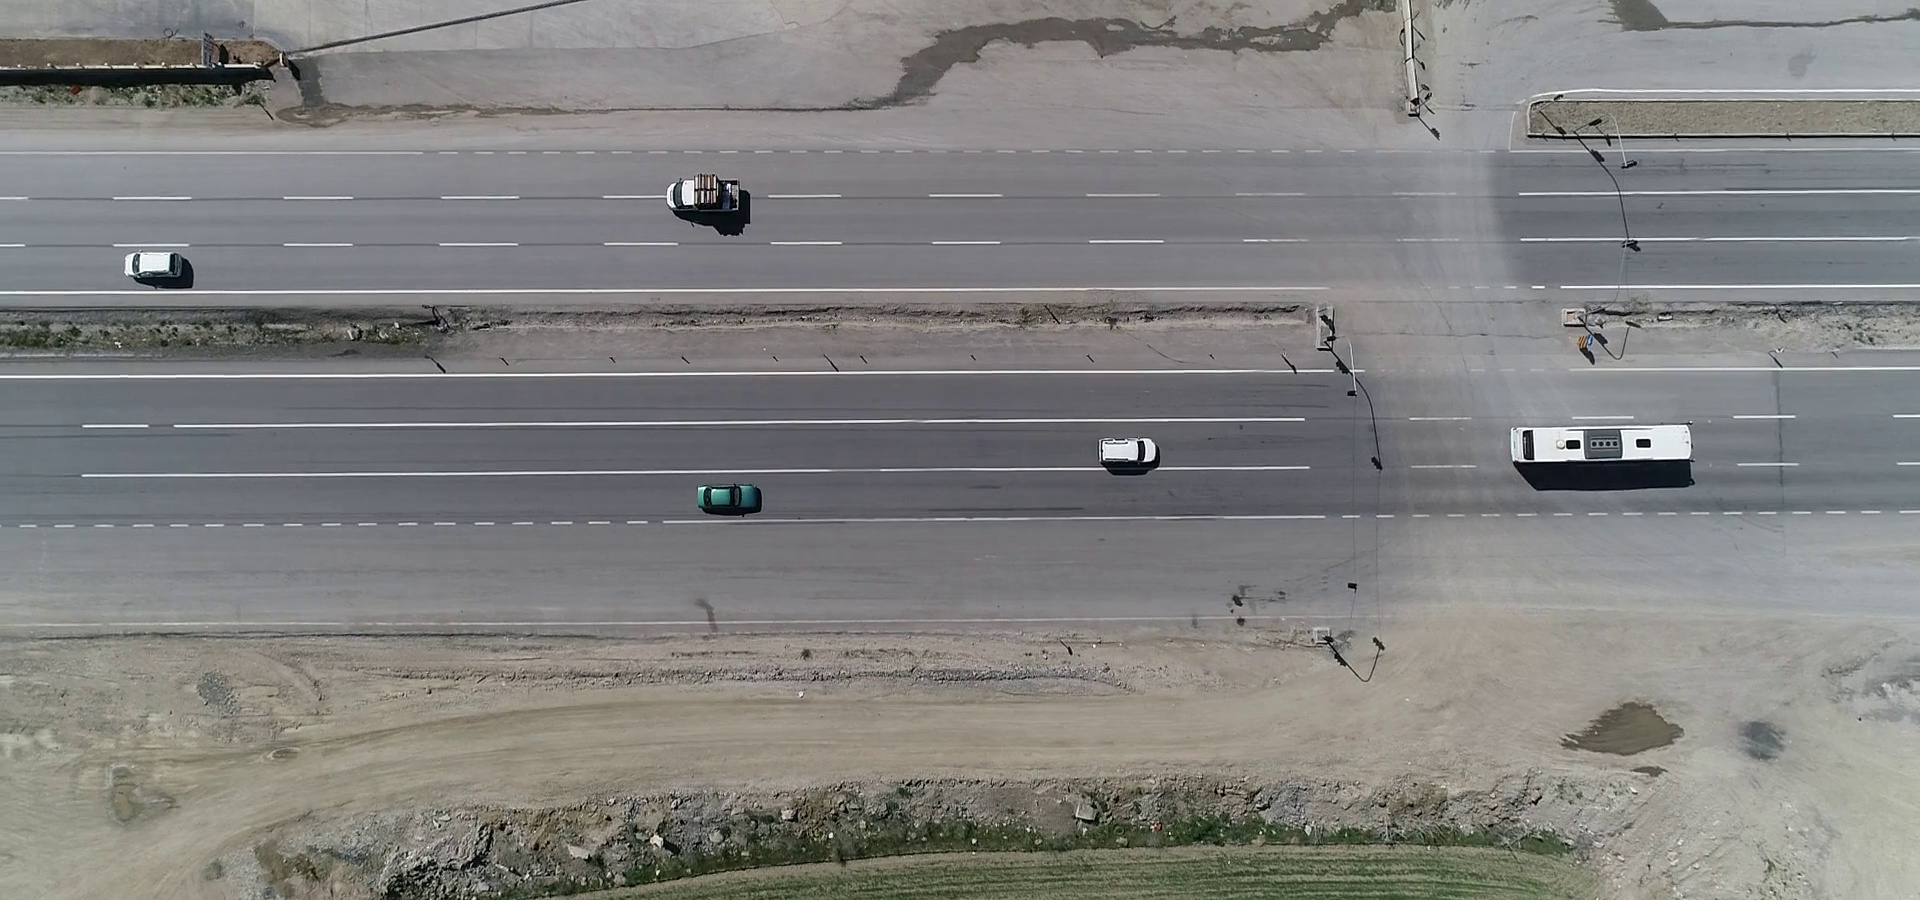araba: (119, 238, 191, 285), (692, 481, 773, 517), (1098, 433, 1160, 474)
kamyonet: (658, 171, 748, 220)
otobus: (1505, 415, 1701, 474)
